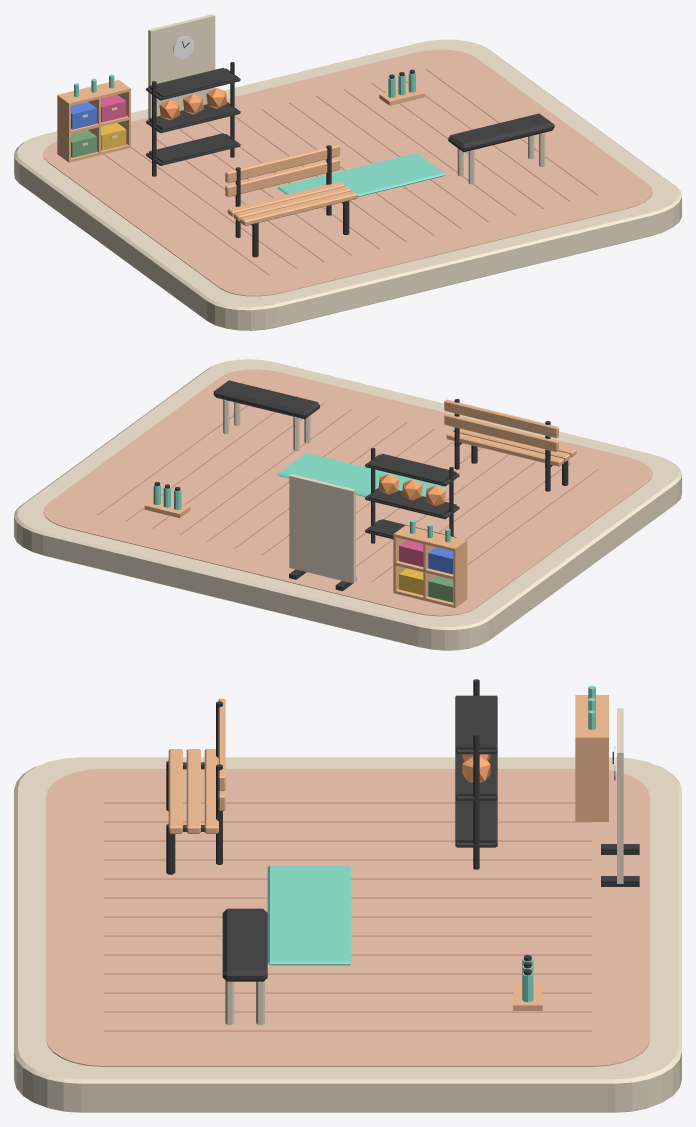
3 renders of one model, top to bottom at view 1: azimuth 30°, elevation 25°; view 2: azimuth 150°, elevation 25°; view 3: azimuth 270°, elevation 25°, orthographic. The views are drawn at different scales.
Visible parts, largest first — view 1: COM-02 Floor Surface, COM-01 Rounded Base Direct, Panel, Exercise mat, Cushion, Back slat.001, Back slat, Ball shelf, Ball shelf.002, Seat slat, Ball shelf.001, Cubbies divider (+7 smaller); view 2: COM-02 Floor Surface, COM-01 Rounded Base Direct, Panel, Exercise mat, Cushion, Back slat, Back slat.001, Ball shelf.002, Seat slat.002, Ball shelf.001, Cubbies divider, Cubbies shelf.002 (+5 smaller); view 3: COM-02 Floor Surface, COM-01 Rounded Base Direct, Exercise mat, Cushion, Cubbies divider.002, Ball shelf.002, Ball shelf, Seat slat, Seat slat.001, Panel, Cubbies shelf.002, Seat slat.002 (+17 smaller).
Boxes of the visible parts, x1,y1,x2,y2 form: COM-02 Floor Surface: [43, 49, 652, 296]; COM-01 Rounded Base Direct: [14, 39, 681, 330]; Panel: [148, 14, 215, 119]; Exercise mat: [277, 153, 445, 196]; Cushion: [448, 113, 554, 152]; Back slat.001: [225, 144, 339, 183]; Back slat: [225, 158, 339, 196]; Ball shelf: [149, 133, 237, 163]; Ball shelf.002: [149, 68, 237, 97]; Seat slat: [240, 191, 357, 225]; Ball shelf.001: [149, 103, 237, 130]; Cubbies divider: [57, 95, 70, 162]; COM-02 Floor Surface: [43, 369, 652, 616]; COM-01 Rounded Base Direct: [14, 359, 681, 650]; Panel: [289, 474, 355, 583]; Exercise mat: [277, 453, 445, 496]; Cushion: [213, 380, 319, 419]; Back slat: [444, 413, 558, 452]; Back slat.001: [444, 399, 558, 438]; Ball shelf.002: [368, 453, 456, 483]; Seat slat.002: [446, 431, 563, 466]; Ball shelf.001: [368, 489, 456, 516]; Cubbies divider: [453, 541, 467, 607]; Cubbies shelf.002: [393, 525, 466, 550]; COM-02 Floor Surface: [46, 769, 649, 1066]; COM-01 Rounded Base Direct: [14, 757, 681, 1112]; Exercise mat: [267, 865, 351, 965]; Cushion: [222, 908, 267, 981]; Cubbies divider.002: [575, 738, 608, 821]; Ball shelf.002: [456, 695, 496, 749]; Ball shelf: [456, 800, 496, 842]; Seat slat: [168, 749, 182, 833]; Seat slat.001: [186, 749, 200, 833]; Panel: [617, 708, 623, 883]; Cubbies shelf.002: [575, 695, 608, 737]; Seat slat.002: [204, 749, 218, 833].
Size of the model in its own units: 6 by 1.48 by 5.2.
Materials: 1 (1 with a texture image).
